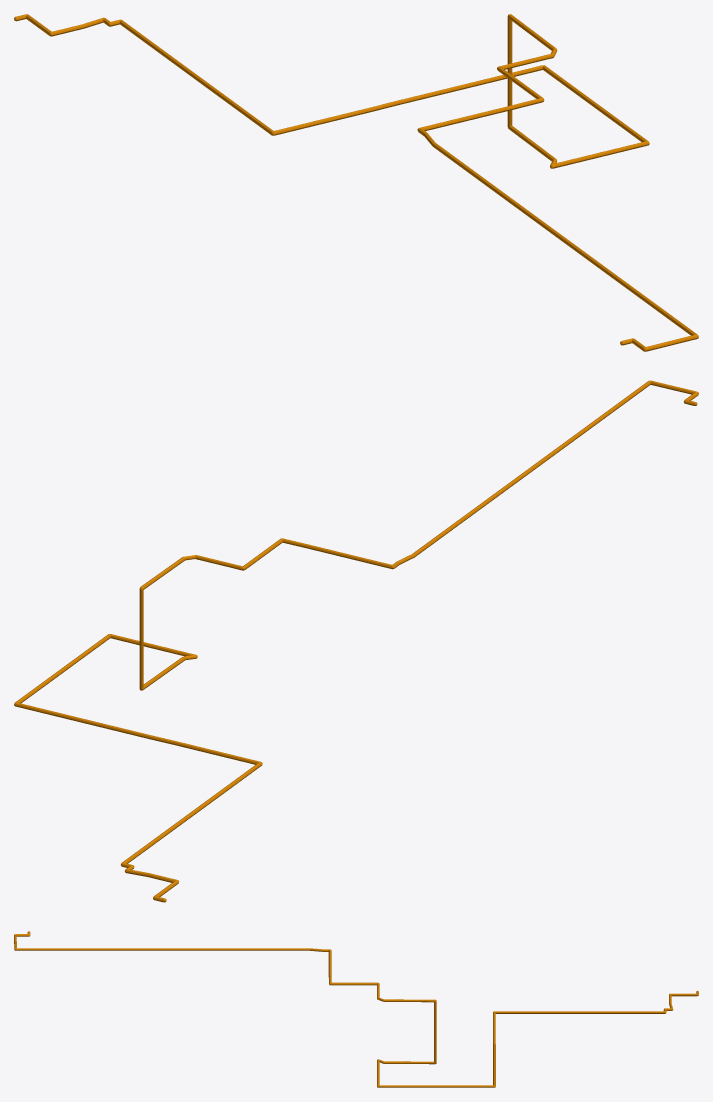
The picture shows the model from 3 angles, top to bottom: view 1: azimuth 30°, elevation 25°; view 2: azimuth 150°, elevation 25°; view 3: azimuth 270°, elevation 25°; orthographic projection. The views are drawn at different scales.
Size of the model in its own units: 1655 by 520 by 5010.
